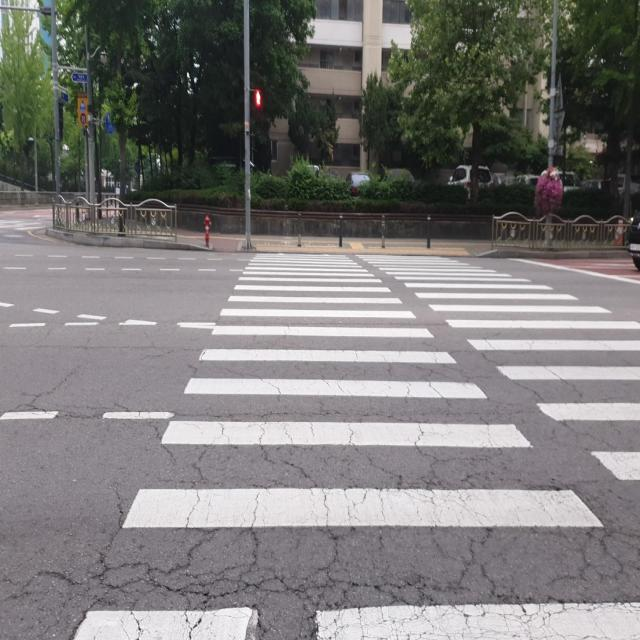빨간불: (252, 86, 264, 129)
횡단보도: (70, 253, 640, 639)
